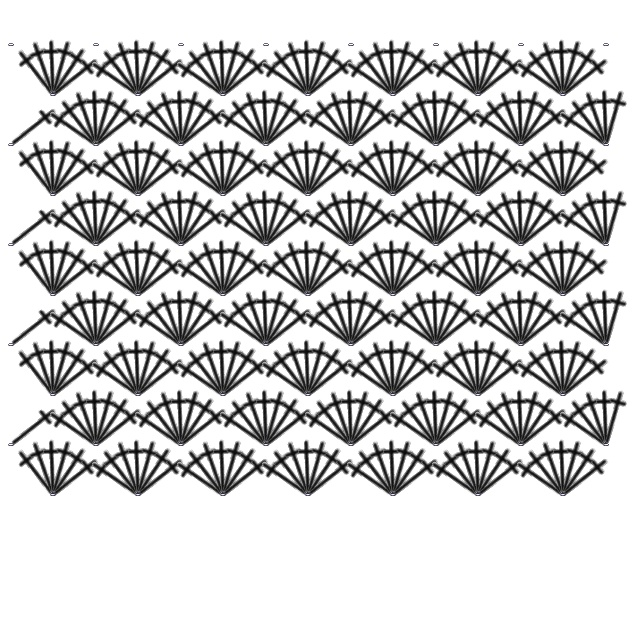chain: (7, 42, 15, 48), (92, 42, 100, 48), (177, 42, 185, 48), (262, 42, 270, 48), (347, 42, 355, 48), (432, 42, 440, 48), (517, 42, 525, 48), (602, 42, 610, 48), (49, 92, 57, 98), (134, 92, 142, 98), (219, 92, 227, 98), (304, 92, 312, 98), (389, 92, 397, 98), (474, 92, 482, 98), (559, 92, 567, 98), (7, 142, 15, 148), (92, 142, 100, 148), (177, 142, 185, 148), (262, 142, 270, 148), (347, 142, 355, 148), (432, 142, 440, 148), (517, 142, 525, 148), (602, 142, 610, 148), (49, 192, 57, 198), (134, 192, 142, 198), (219, 192, 227, 198), (304, 192, 312, 198), (389, 192, 397, 198), (474, 192, 482, 198), (559, 192, 567, 198), (7, 242, 15, 248), (92, 242, 100, 248), (177, 242, 185, 248), (262, 242, 270, 248), (347, 242, 355, 248), (432, 242, 440, 248), (517, 242, 525, 248), (602, 242, 610, 248), (49, 292, 57, 298), (134, 292, 142, 298), (219, 292, 227, 298), (304, 292, 312, 298), (389, 292, 397, 298), (474, 292, 482, 298), (559, 292, 567, 298), (7, 342, 15, 348), (92, 342, 100, 348), (177, 342, 185, 348), (262, 342, 270, 348), (347, 342, 355, 348), (432, 342, 440, 348), (517, 342, 525, 348), (602, 342, 610, 348), (49, 392, 57, 398), (134, 392, 142, 398), (219, 392, 227, 398), (304, 392, 312, 398), (389, 392, 397, 398), (474, 392, 482, 398), (559, 392, 567, 398), (7, 442, 15, 448), (92, 442, 100, 448), (177, 442, 185, 448), (262, 442, 270, 448), (347, 442, 355, 448), (432, 442, 440, 448), (517, 442, 525, 448), (602, 442, 610, 448), (49, 492, 57, 498), (134, 492, 142, 498), (219, 492, 227, 498), (304, 492, 312, 498), (389, 492, 397, 498), (474, 492, 482, 498), (559, 492, 567, 498)
enseble_chain: (43, 48, 108, 108), (83, 48, 148, 108), (128, 48, 193, 108), (168, 48, 233, 108), (213, 48, 278, 108), (253, 48, 318, 108), (298, 48, 363, 108), (338, 48, 403, 108), (383, 48, 448, 108), (423, 48, 488, 108), (468, 48, 533, 108), (508, 48, 573, 108), (553, 48, 618, 108), (1, 98, 66, 158), (41, 98, 106, 158), (86, 98, 151, 158), (126, 98, 191, 158), (171, 98, 236, 158), (211, 98, 276, 158), (256, 98, 321, 158), (296, 98, 361, 158), (341, 98, 406, 158), (381, 98, 446, 158), (426, 98, 491, 158), (466, 98, 531, 158), (511, 98, 576, 158), (551, 98, 616, 158), (43, 148, 108, 208), (83, 148, 148, 208), (128, 148, 193, 208), (168, 148, 233, 208), (213, 148, 278, 208), (253, 148, 318, 208), (298, 148, 363, 208), (338, 148, 403, 208), (383, 148, 448, 208), (423, 148, 488, 208), (468, 148, 533, 208), (508, 148, 573, 208), (553, 148, 618, 208), (1, 198, 66, 258), (41, 198, 106, 258), (86, 198, 151, 258), (126, 198, 191, 258), (171, 198, 236, 258), (211, 198, 276, 258), (256, 198, 321, 258), (296, 198, 361, 258), (341, 198, 406, 258), (381, 198, 446, 258), (426, 198, 491, 258), (466, 198, 531, 258), (511, 198, 576, 258), (551, 198, 616, 258), (43, 248, 108, 308), (83, 248, 148, 308), (128, 248, 193, 308), (168, 248, 233, 308), (213, 248, 278, 308), (253, 248, 318, 308), (298, 248, 363, 308), (338, 248, 403, 308), (383, 248, 448, 308), (423, 248, 488, 308), (468, 248, 533, 308), (508, 248, 573, 308), (553, 248, 618, 308), (1, 298, 66, 358), (41, 298, 106, 358), (86, 298, 151, 358), (126, 298, 191, 358), (171, 298, 236, 358), (211, 298, 276, 358), (256, 298, 321, 358), (296, 298, 361, 358), (341, 298, 406, 358), (381, 298, 446, 358), (426, 298, 491, 358), (466, 298, 531, 358), (511, 298, 576, 358), (551, 298, 616, 358), (43, 348, 108, 408), (83, 348, 148, 408), (128, 348, 193, 408), (168, 348, 233, 408), (213, 348, 278, 408), (253, 348, 318, 408), (298, 348, 363, 408), (338, 348, 403, 408), (383, 348, 448, 408), (423, 348, 488, 408), (468, 348, 533, 408), (508, 348, 573, 408), (553, 348, 618, 408), (1, 398, 66, 458), (41, 398, 106, 458), (86, 398, 151, 458), (126, 398, 191, 458), (171, 398, 236, 458), (211, 398, 276, 458), (256, 398, 321, 458), (296, 398, 361, 458), (341, 398, 406, 458), (381, 398, 446, 458), (426, 398, 491, 458), (466, 398, 531, 458), (511, 398, 576, 458), (551, 398, 616, 458), (43, 448, 108, 508), (83, 448, 148, 508), (128, 448, 193, 508), (168, 448, 233, 508), (213, 448, 278, 508), (253, 448, 318, 508), (298, 448, 363, 508), (338, 448, 403, 508), (383, 448, 448, 508), (423, 448, 488, 508), (468, 448, 533, 508), (508, 448, 573, 508), (553, 448, 618, 508), (7, 40, 66, 105), (40, 40, 99, 105), (92, 40, 151, 105), (125, 40, 184, 105), (177, 40, 236, 105), (210, 40, 269, 105), (262, 40, 321, 105), (295, 40, 354, 105), (347, 40, 406, 105), (380, 40, 439, 105), (432, 40, 491, 105), (465, 40, 524, 105), (517, 40, 576, 105), (550, 40, 609, 105), (50, 90, 109, 155), (83, 90, 142, 155), (135, 90, 194, 155), (168, 90, 227, 155), (220, 90, 279, 155), (253, 90, 312, 155), (305, 90, 364, 155), (338, 90, 397, 155), (390, 90, 449, 155), (423, 90, 482, 155), (475, 90, 534, 155), (508, 90, 567, 155), (560, 90, 619, 155), (7, 140, 66, 205), (40, 140, 99, 205), (92, 140, 151, 205), (125, 140, 184, 205), (177, 140, 236, 205), (210, 140, 269, 205), (262, 140, 321, 205), (295, 140, 354, 205), (347, 140, 406, 205), (380, 140, 439, 205), (432, 140, 491, 205), (465, 140, 524, 205), (517, 140, 576, 205), (550, 140, 609, 205), (50, 190, 109, 255), (83, 190, 142, 255), (135, 190, 194, 255), (168, 190, 227, 255), (220, 190, 279, 255), (253, 190, 312, 255), (305, 190, 364, 255), (338, 190, 397, 255), (390, 190, 449, 255), (423, 190, 482, 255), (475, 190, 534, 255), (508, 190, 567, 255), (560, 190, 619, 255), (7, 240, 66, 305), (40, 240, 99, 305), (92, 240, 151, 305), (125, 240, 184, 305), (177, 240, 236, 305), (210, 240, 269, 305), (262, 240, 321, 305), (295, 240, 354, 305), (347, 240, 406, 305), (380, 240, 439, 305), (432, 240, 491, 305), (465, 240, 524, 305), (517, 240, 576, 305), (550, 240, 609, 305), (50, 290, 109, 355), (83, 290, 142, 355), (135, 290, 194, 355), (168, 290, 227, 355), (220, 290, 279, 355), (253, 290, 312, 355), (305, 290, 364, 355), (338, 290, 397, 355), (390, 290, 449, 355), (423, 290, 482, 355), (475, 290, 534, 355), (508, 290, 567, 355), (560, 290, 619, 355), (7, 340, 66, 405), (40, 340, 99, 405), (92, 340, 151, 405), (125, 340, 184, 405), (177, 340, 236, 405), (210, 340, 269, 405), (262, 340, 321, 405), (295, 340, 354, 405), (347, 340, 406, 405), (380, 340, 439, 405), (432, 340, 491, 405), (465, 340, 524, 405), (517, 340, 576, 405), (550, 340, 609, 405), (50, 390, 109, 455), (83, 390, 142, 455), (135, 390, 194, 455), (168, 390, 227, 455), (220, 390, 279, 455), (253, 390, 312, 455), (305, 390, 364, 455), (338, 390, 397, 455), (390, 390, 449, 455), (423, 390, 482, 455), (475, 390, 534, 455), (508, 390, 567, 455), (560, 390, 619, 455), (7, 440, 66, 505), (40, 440, 99, 505), (92, 440, 151, 505), (125, 440, 184, 505), (177, 440, 236, 505), (210, 440, 269, 505), (262, 440, 321, 505), (295, 440, 354, 505), (347, 440, 406, 505), (380, 440, 439, 505), (432, 440, 491, 505), (465, 440, 524, 505), (517, 440, 576, 505), (550, 440, 609, 505), (20, 37, 69, 100), (37, 37, 86, 100), (105, 37, 154, 100), (122, 37, 171, 100), (190, 37, 239, 100), (207, 37, 256, 100), (275, 37, 324, 100), (292, 37, 341, 100), (360, 37, 409, 100), (377, 37, 426, 100), (445, 37, 494, 100), (462, 37, 511, 100), (530, 37, 579, 100), (547, 37, 596, 100), (63, 87, 112, 150), (80, 87, 129, 150), (148, 87, 197, 150), (165, 87, 214, 150), (233, 87, 282, 150), (250, 87, 299, 150), (318, 87, 367, 150), (335, 87, 384, 150), (403, 87, 452, 150), (420, 87, 469, 150), (488, 87, 537, 150), (505, 87, 554, 150), (573, 87, 622, 150), (590, 87, 639, 150), (20, 137, 69, 200), (37, 137, 86, 200), (105, 137, 154, 200), (122, 137, 171, 200), (190, 137, 239, 200), (207, 137, 256, 200), (275, 137, 324, 200), (292, 137, 341, 200), (360, 137, 409, 200), (377, 137, 426, 200), (445, 137, 494, 200), (462, 137, 511, 200), (530, 137, 579, 200), (547, 137, 596, 200), (63, 187, 112, 250), (80, 187, 129, 250), (148, 187, 197, 250), (165, 187, 214, 250), (233, 187, 282, 250), (250, 187, 299, 250), (318, 187, 367, 250), (335, 187, 384, 250), (403, 187, 452, 250), (420, 187, 469, 250), (488, 187, 537, 250), (505, 187, 554, 250), (573, 187, 622, 250), (590, 187, 639, 250), (20, 237, 69, 300), (37, 237, 86, 300), (105, 237, 154, 300), (122, 237, 171, 300), (190, 237, 239, 300), (207, 237, 256, 300), (275, 237, 324, 300), (292, 237, 341, 300), (360, 237, 409, 300), (377, 237, 426, 300), (445, 237, 494, 300), (462, 237, 511, 300), (530, 237, 579, 300), (547, 237, 596, 300), (63, 287, 112, 350), (80, 287, 129, 350), (148, 287, 197, 350), (165, 287, 214, 350), (233, 287, 282, 350), (250, 287, 299, 350), (318, 287, 367, 350), (335, 287, 384, 350), (403, 287, 452, 350), (420, 287, 469, 350), (488, 287, 537, 350), (505, 287, 554, 350), (573, 287, 622, 350), (590, 287, 639, 350), (20, 337, 69, 400), (37, 337, 86, 400), (105, 337, 154, 400), (122, 337, 171, 400), (190, 337, 239, 400), (207, 337, 256, 400), (275, 337, 324, 400), (292, 337, 341, 400), (360, 337, 409, 400), (377, 337, 426, 400), (445, 337, 494, 400), (462, 337, 511, 400), (530, 337, 579, 400), (547, 337, 596, 400), (63, 387, 112, 450), (80, 387, 129, 450), (148, 387, 197, 450), (165, 387, 214, 450), (233, 387, 282, 450), (250, 387, 299, 450), (318, 387, 367, 450), (335, 387, 384, 450), (403, 387, 452, 450), (420, 387, 469, 450), (488, 387, 537, 450), (505, 387, 554, 450), (573, 387, 622, 450), (590, 387, 639, 450), (20, 437, 69, 500), (37, 437, 86, 500), (105, 437, 154, 500), (122, 437, 171, 500), (190, 437, 239, 500), (207, 437, 256, 500), (275, 437, 324, 500), (292, 437, 341, 500), (360, 437, 409, 500), (377, 437, 426, 500), (445, 437, 494, 500), (462, 437, 511, 500), (530, 437, 579, 500), (547, 437, 596, 500), (36, 39, 70, 95), (206, 39, 240, 95), (376, 39, 410, 95), (546, 39, 580, 95), (164, 89, 198, 145), (334, 89, 368, 145), (504, 89, 538, 145), (36, 139, 70, 195), (206, 139, 240, 195), (376, 139, 410, 195), (546, 139, 580, 195), (164, 189, 198, 245), (334, 189, 368, 245), (504, 189, 538, 245), (36, 239, 70, 295), (206, 239, 240, 295), (376, 239, 410, 295), (546, 239, 580, 295), (164, 289, 198, 345), (334, 289, 368, 345), (504, 289, 538, 345), (36, 339, 70, 395), (206, 339, 240, 395), (376, 339, 410, 395), (546, 339, 580, 395), (164, 389, 198, 445), (334, 389, 368, 445), (504, 389, 538, 445), (36, 439, 70, 495), (206, 439, 240, 495), (376, 439, 410, 495), (546, 439, 580, 495), (122, 39, 154, 95), (292, 39, 324, 95), (462, 39, 494, 95), (80, 89, 112, 145), (250, 89, 282, 145), (420, 89, 452, 145), (590, 89, 622, 145), (122, 139, 154, 195), (292, 139, 324, 195), (462, 139, 494, 195), (80, 189, 112, 245), (250, 189, 282, 245), (420, 189, 452, 245), (590, 189, 622, 245), (122, 239, 154, 295), (292, 239, 324, 295), (462, 239, 494, 295), (80, 289, 112, 345), (250, 289, 282, 345), (420, 289, 452, 345), (590, 289, 622, 345), (122, 339, 154, 395), (292, 339, 324, 395), (462, 339, 494, 395), (80, 389, 112, 445), (250, 389, 282, 445), (420, 389, 452, 445), (590, 389, 622, 445), (122, 439, 154, 495), (292, 439, 324, 495), (462, 439, 494, 495)
